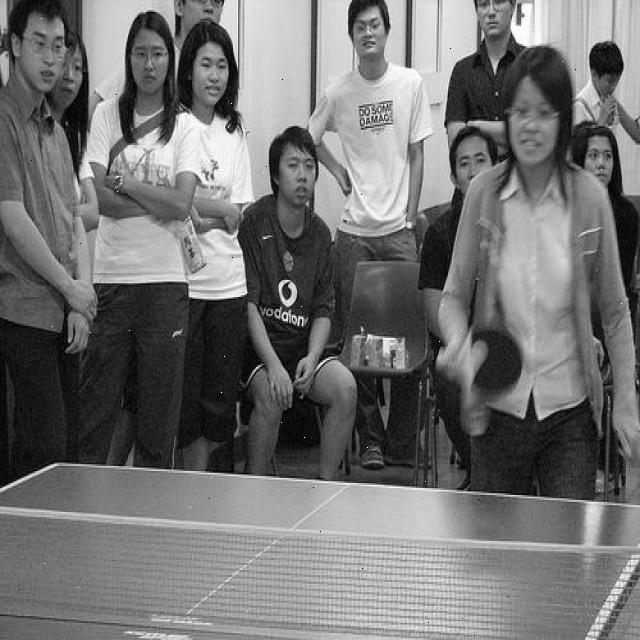ping-pong-ball: (456, 340, 488, 386)
